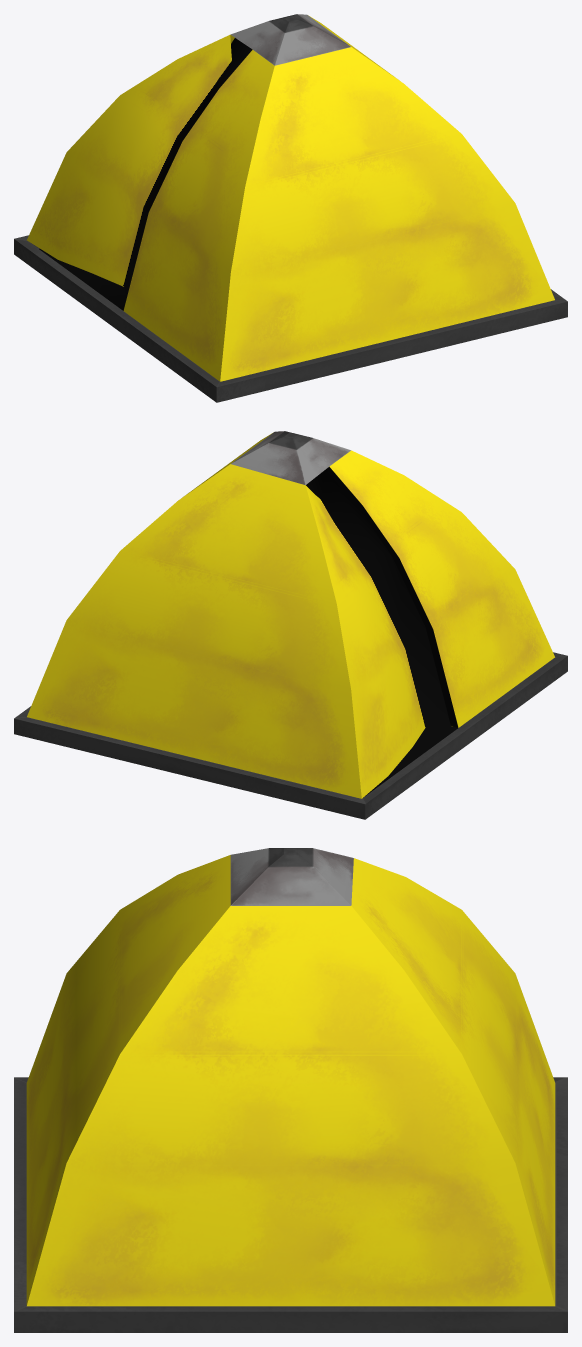
The model's file is Tent Open.fbx.
The picture shows the model from 3 angles, top to bottom: view 1: azimuth 30°, elevation 25°; view 2: azimuth 150°, elevation 25°; view 3: azimuth 270°, elevation 25°; orthographic projection. The views are drawn at different scales.
Parts seen in each view (by area): view 1: Tent open, Black; view 2: Tent open, Black; view 3: Tent open.
Boxes of the visible parts, x1,y1,x2,y2 form: Tent open: (14,14,567,402); Black: (39,38,252,310); Tent open: (14,431,567,819); Black: (306,469,457,797); Tent open: (14,848,567,1332).
Size of the model in its own units: 197 by 143 by 197.
